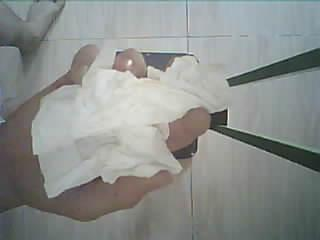paper: (32, 25, 230, 198)
